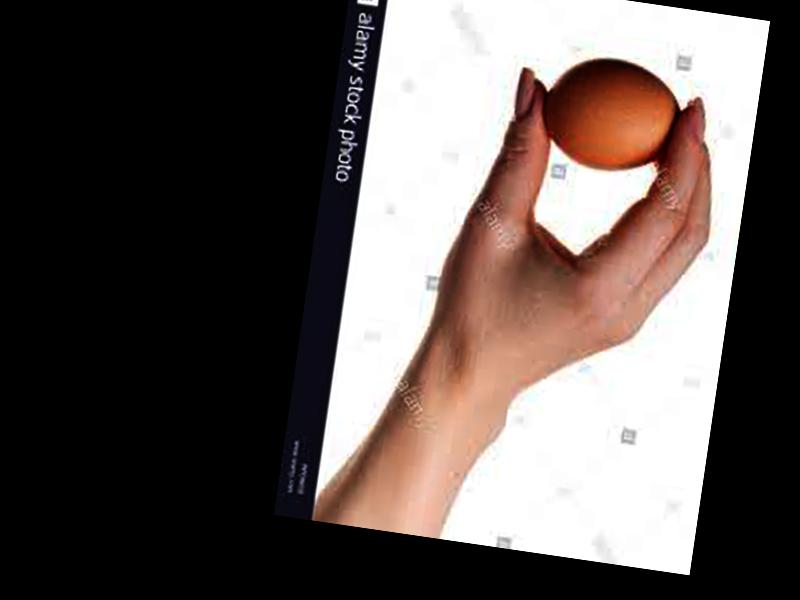Eggs: (536, 49, 685, 184)
